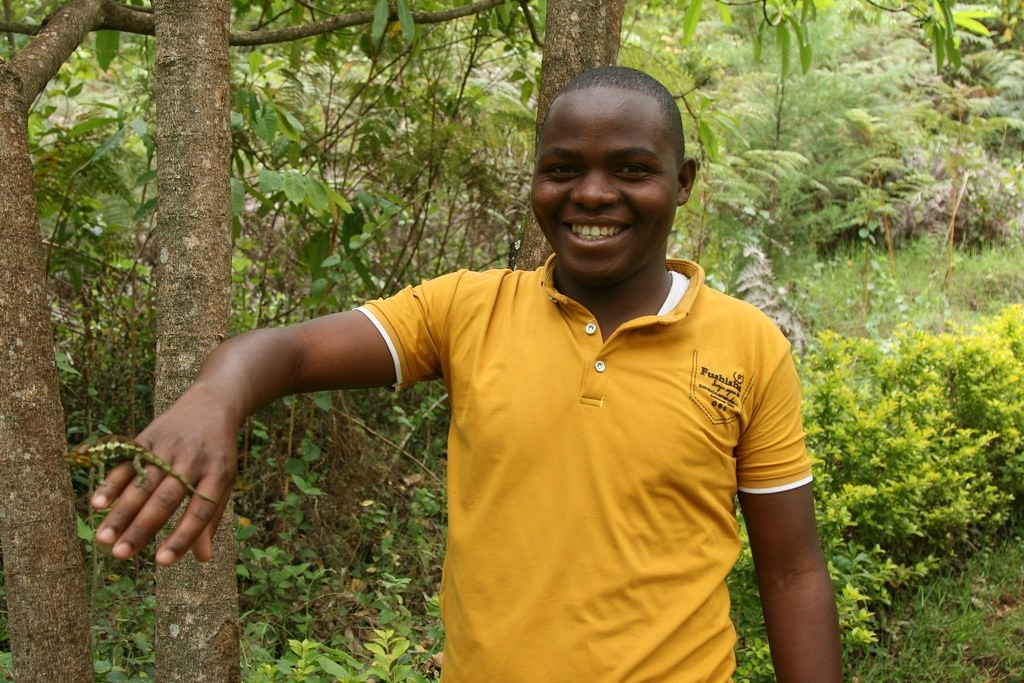face_no_mask: (528, 66, 698, 287)
